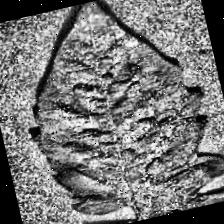spider mites: (10, 0, 224, 224)
